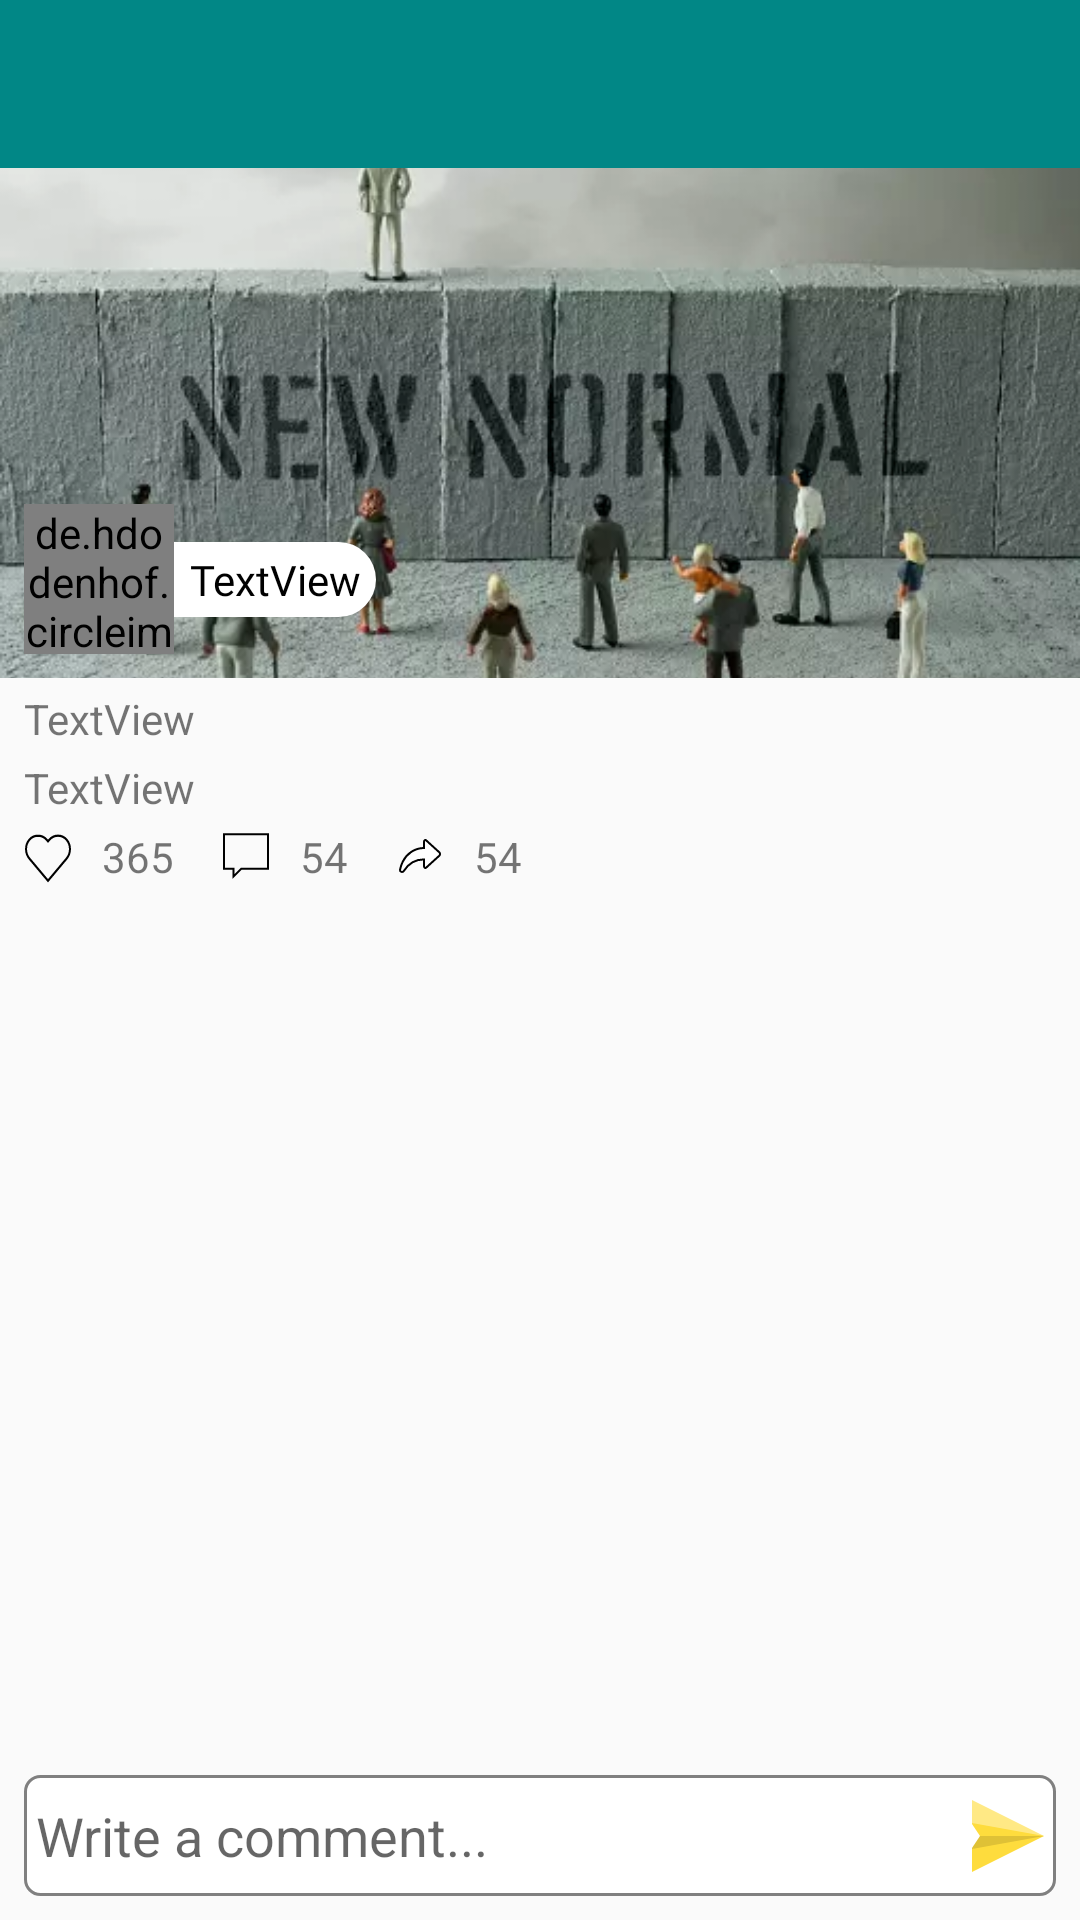

Named icons in this screenshot (1080px x 1920px) and their bounding boxes, (x1, y1, x2, y2):
send comment: (972, 1800, 1044, 1872)
